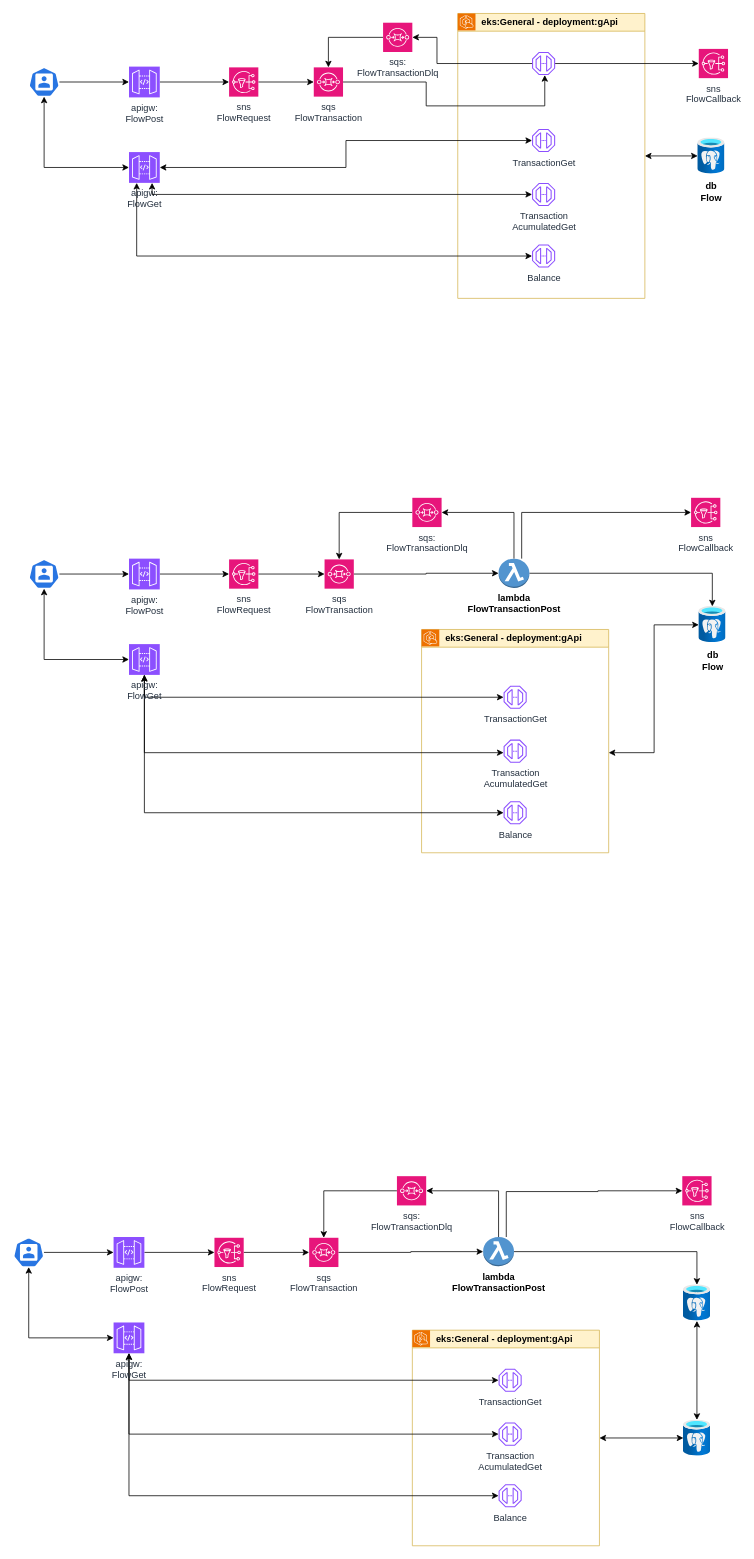
The diagram is 754 pixels wide and 1559 high, and some of its shapes have lost their labels. The shapes that lost their labels are listed below. From the top down, each one's box as (x1, y1, x2, y2) in pixels, then its label:
(532, 52, 555, 75): TransactionPost
(683, 1284, 710, 1321): db Flow RW
(683, 1419, 710, 1456): db FlowRO
